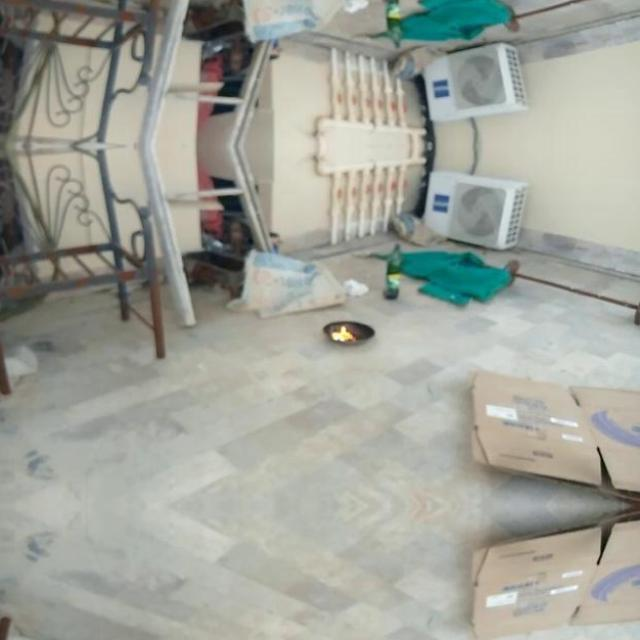smoke: (332, 323, 357, 342)
